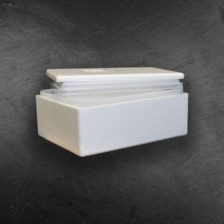foam_box: (29, 60, 198, 159)
